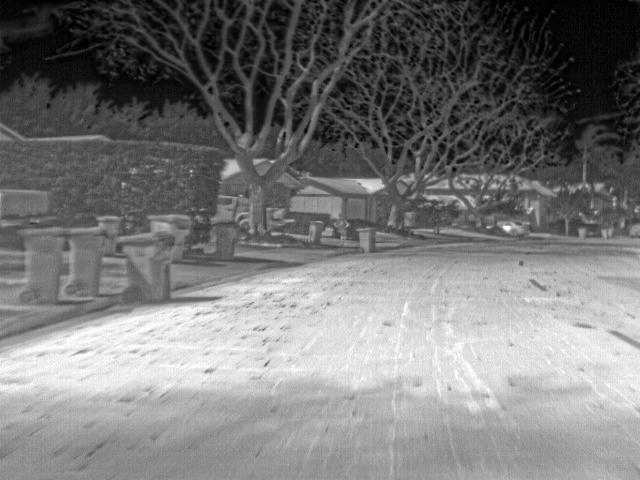car: (212, 195, 248, 230), (267, 202, 291, 232), (496, 218, 524, 234), (629, 222, 639, 239)
person: (336, 213, 351, 237)
